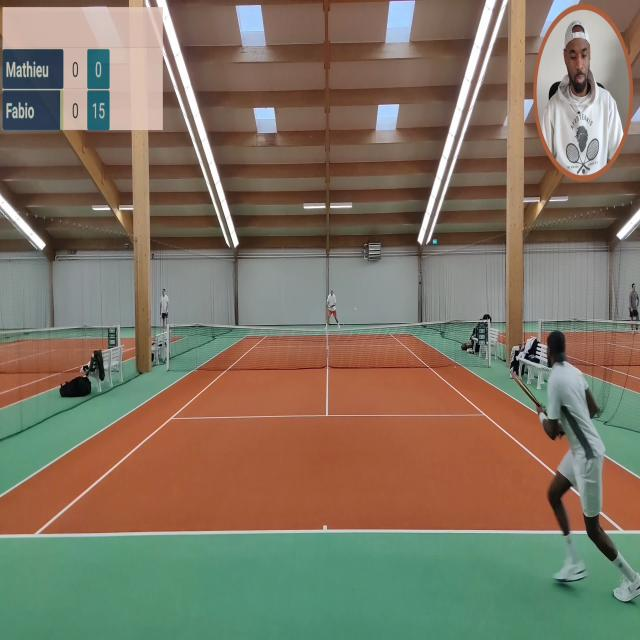ball: (353, 306, 358, 312)
